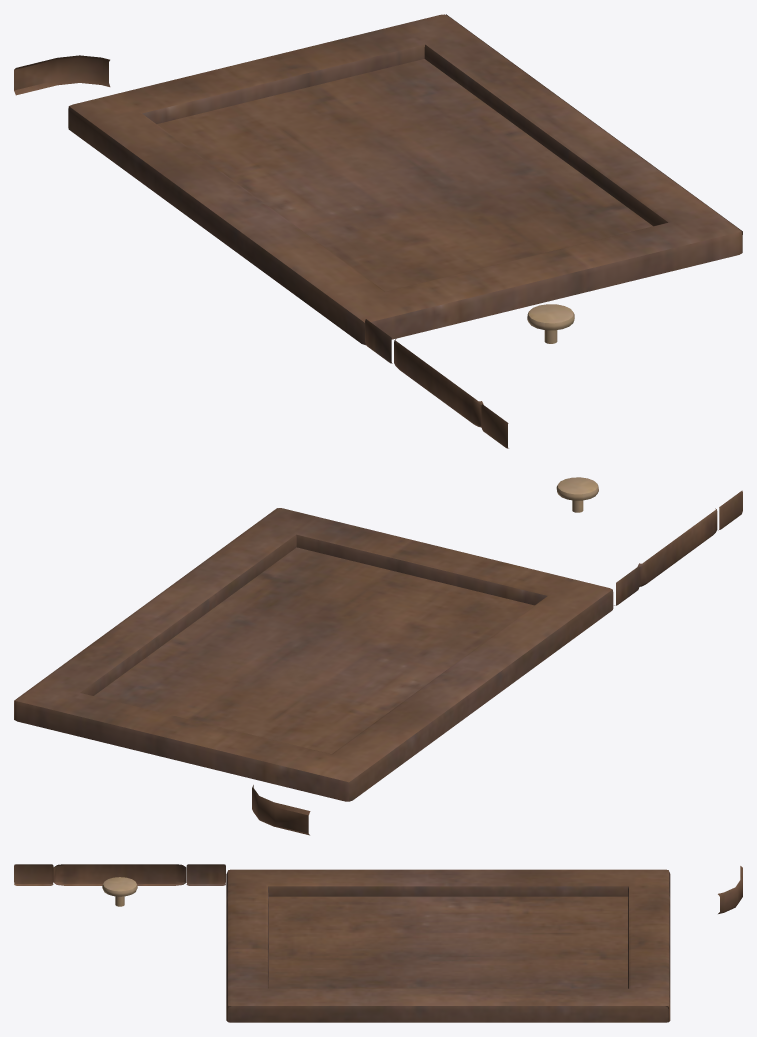
File: Drawer_Left.obj
3 views of the same model, one above another, from view 1: azimuth 30°, elevation 25°; view 2: azimuth 150°, elevation 25°; view 3: azimuth 270°, elevation 25° (orthographic). The views are drawn at different scales.
Parts seen in each view (by area): view 1: Drawer_Left; view 2: Drawer_Left; view 3: Drawer_Left.
Boxes of the visible parts, box(x1,y1,x2,y2) form: Drawer_Left: box(14, 14, 742, 448); Drawer_Left: box(14, 477, 742, 835); Drawer_Left: box(14, 864, 742, 1022).
Size of the model in its own units: 1.88 by 0.2828 by 4.18.
Materials: 1 (1 with a texture image).
